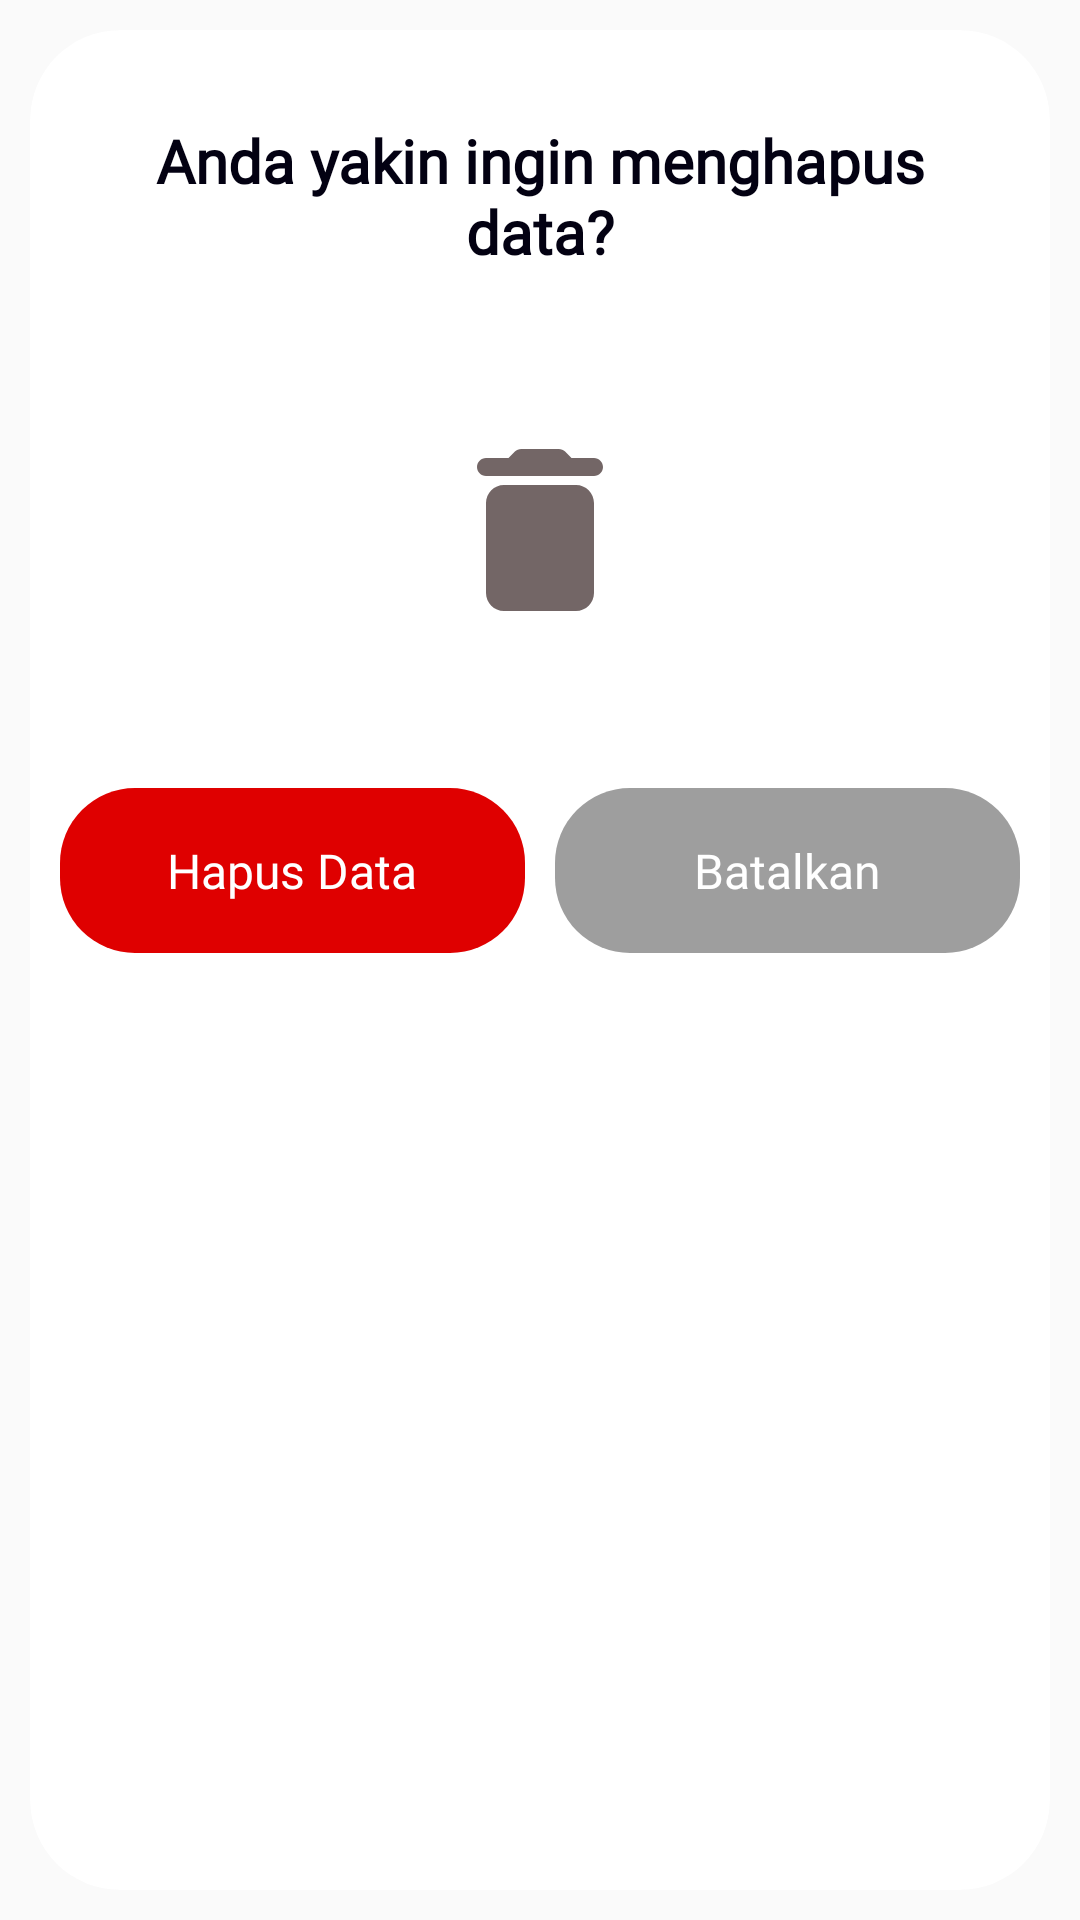

Where to tap for icons on this 1080x1920 app screen, as (x=x, y=y):
delete: (x=540, y=530)
